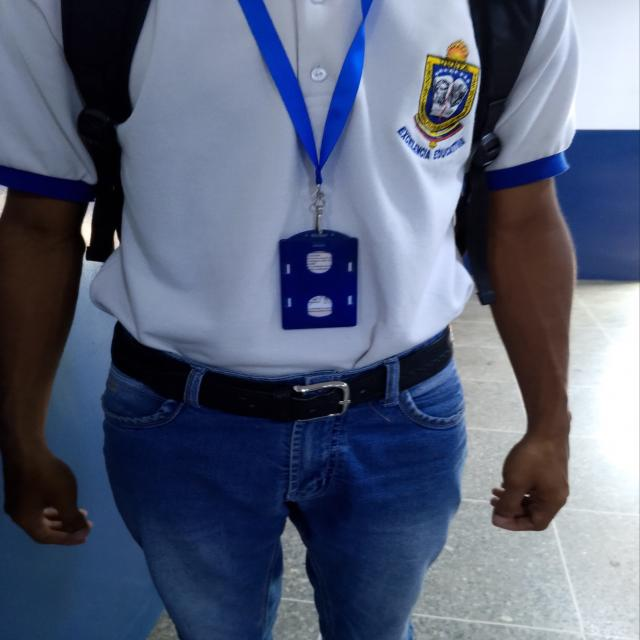carnet: (278, 229, 359, 330)
uniforme_superior: (0, 1, 588, 379)
